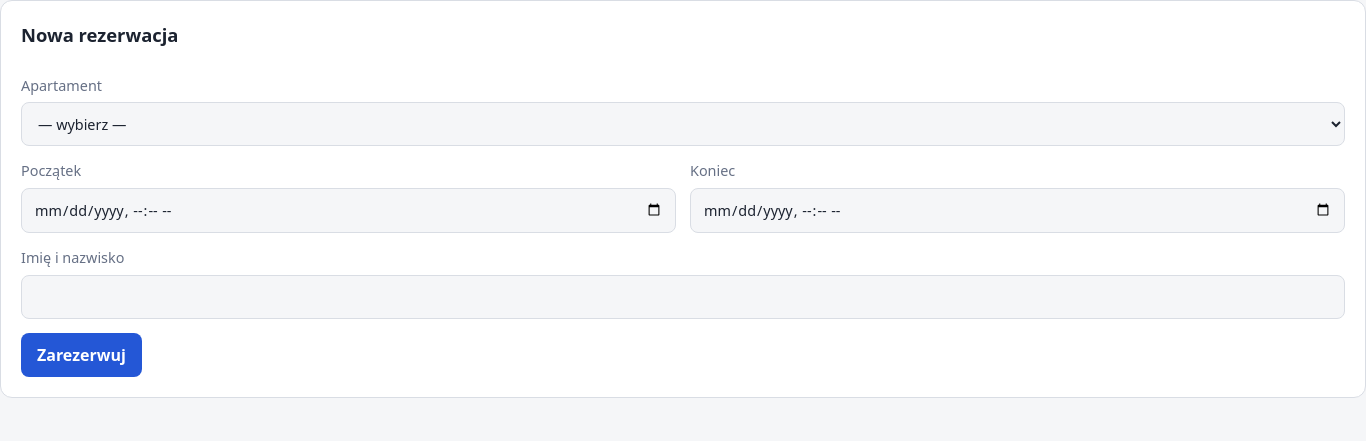
Scenario: BookingForm › rejects a booking beyond one year ahead
Select "Apartament 101" in the dropdown labelled "Apartament" at (683, 124), box [21,102,1345,146]
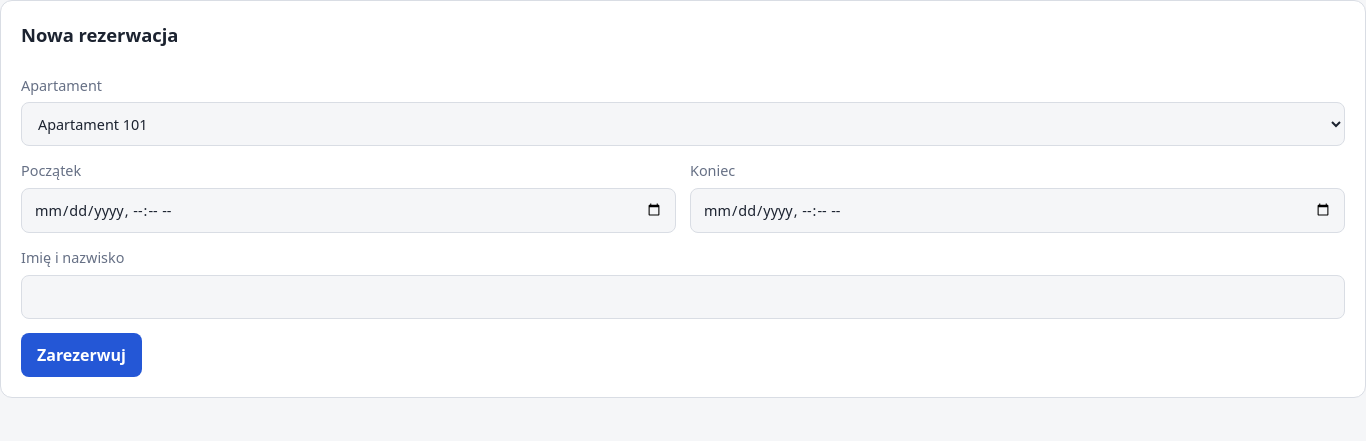
Type "2027-05-30T10:00" into the field labelled "Początek" at (348, 211), box [21,188,676,233]
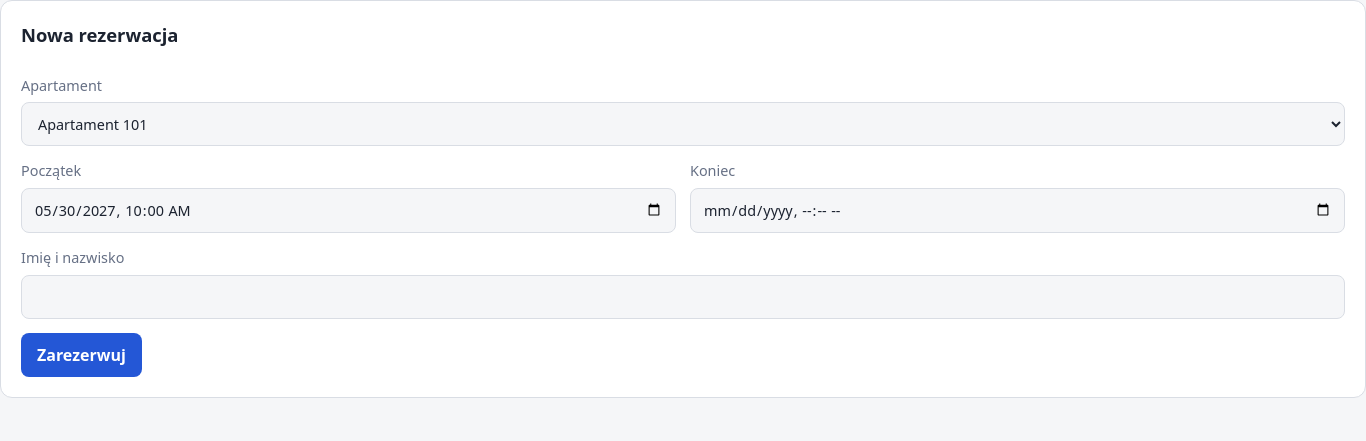
Type "2027-07-01T10:00" into the field labelled "Koniec" at (1018, 211), box [690,188,1345,233]
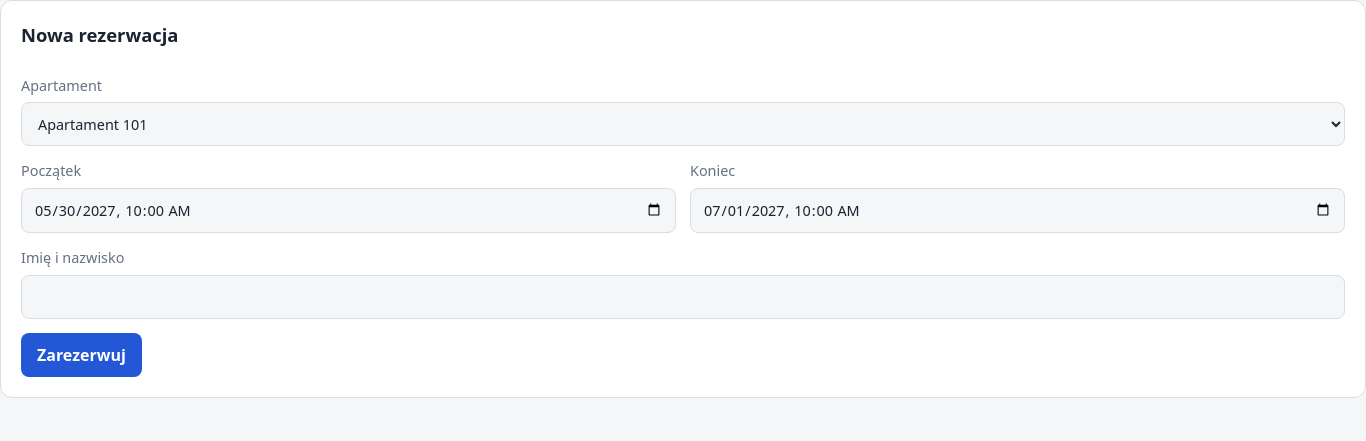
Type "Jan" into the field labelled "Imię i nazwisko" at (683, 297), box [21,275,1345,319]
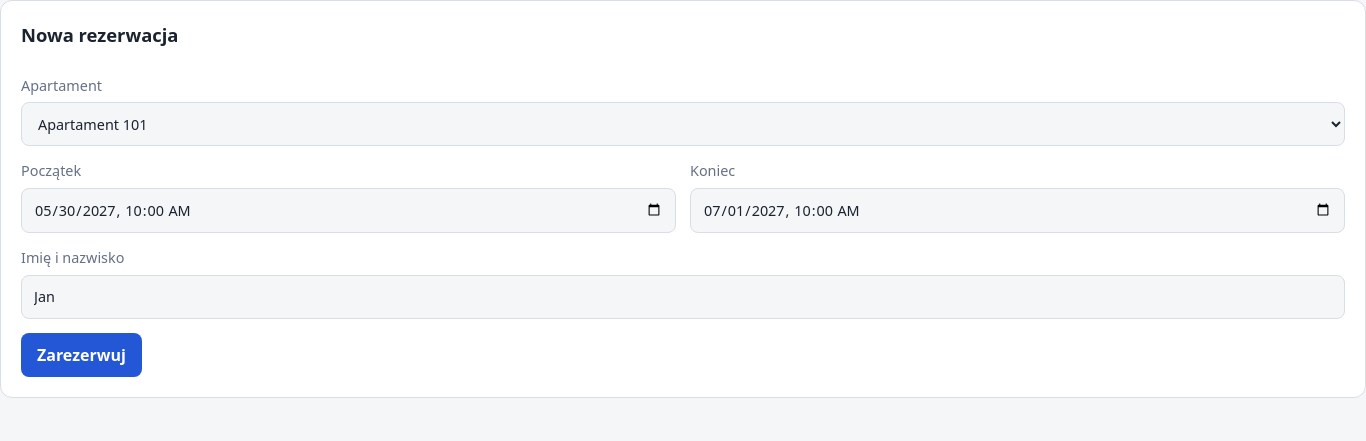
Click the button "Zarezerwuj" at (81, 355), box [21,333,142,377]
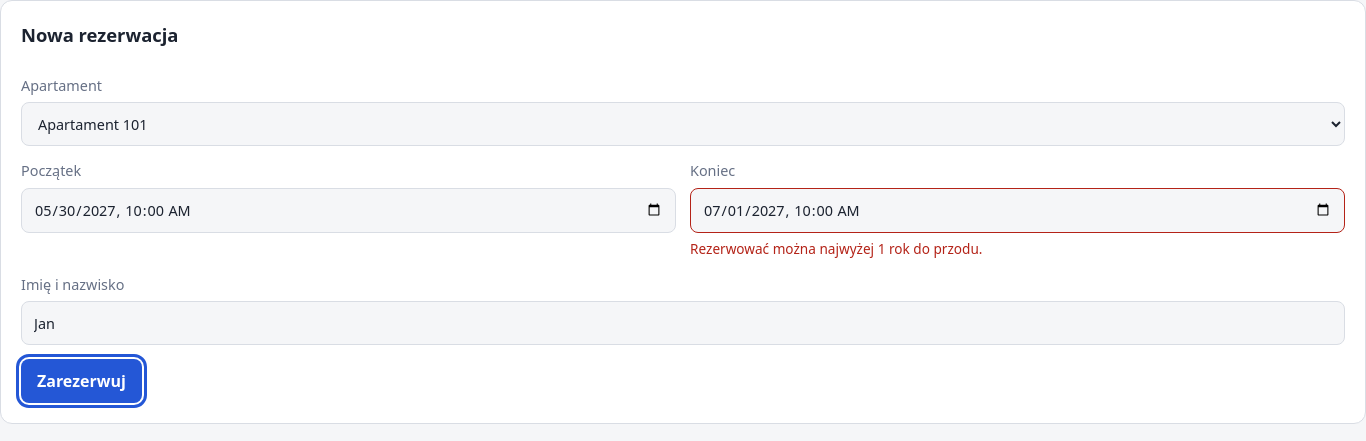
Now the text "Rezerwować można najwyżej 1 rok do przodu." is shown, box [690,239,982,258]
